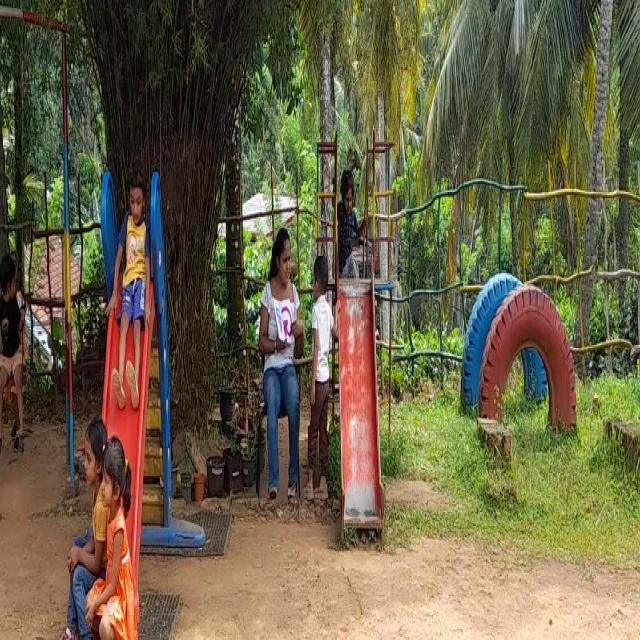adult: (250, 220, 302, 500)
child: (56, 417, 105, 640), (304, 236, 337, 521), (94, 442, 140, 640), (114, 170, 150, 412), (0, 248, 31, 455)
